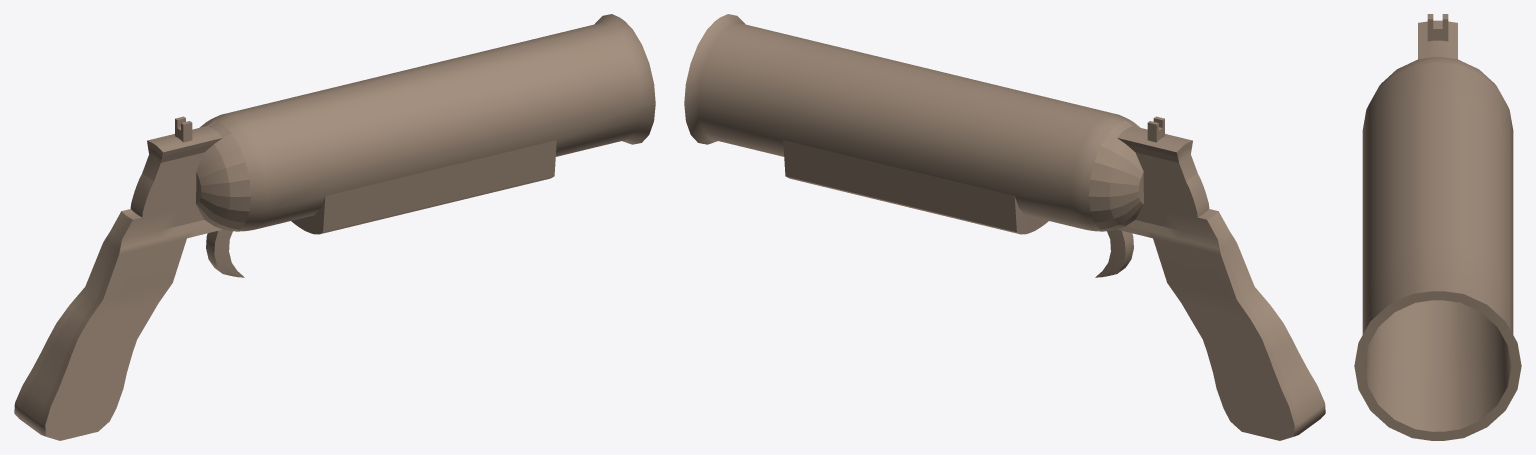
File: Grapple_Gun_Export_Model.FBX
3 renders of one model, left to right at view 1: azimuth 30°, elevation 25°; view 2: azimuth 150°, elevation 25°; view 3: azimuth 270°, elevation 25°, orthographic. The views are drawn at different scales.
Visible parts, largest first — view 1: GrappleGun; view 2: GrappleGun; view 3: GrappleGun.
Part boxes in pixels (x1,y1,x2,y2): GrappleGun: [14, 14, 655, 440]; GrappleGun: [684, 14, 1325, 440]; GrappleGun: [1354, 14, 1521, 440].
Size of the model in its own units: 43.02 by 19.17 by 8.43.
